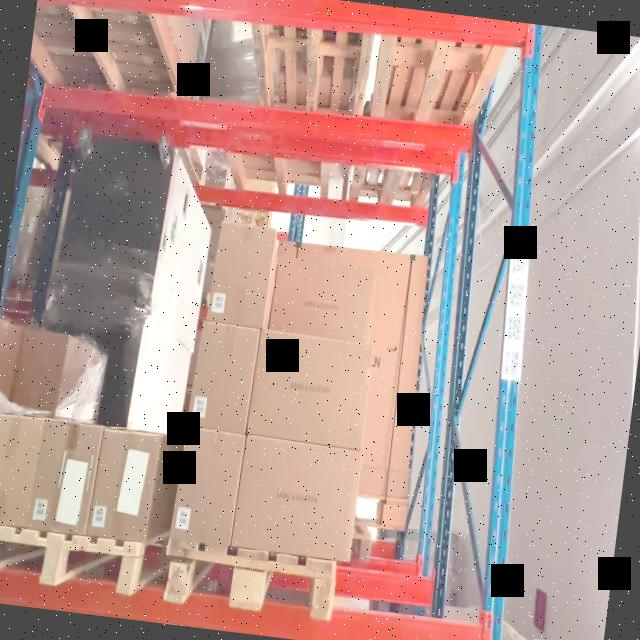box: (234, 434, 365, 560), (248, 334, 370, 446), (88, 428, 161, 541), (28, 421, 103, 530), (174, 425, 243, 540), (190, 320, 259, 430), (210, 218, 274, 324), (0, 415, 46, 525)
